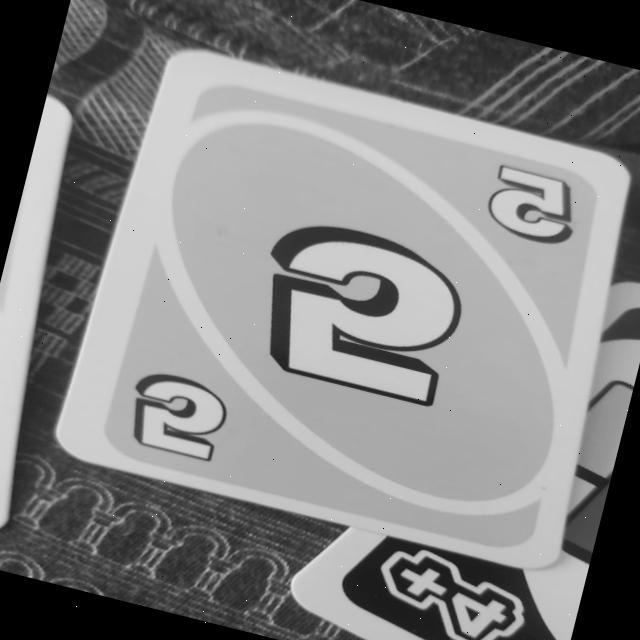card_4-: (287, 232, 640, 640)
card_5: (51, 36, 640, 578)
